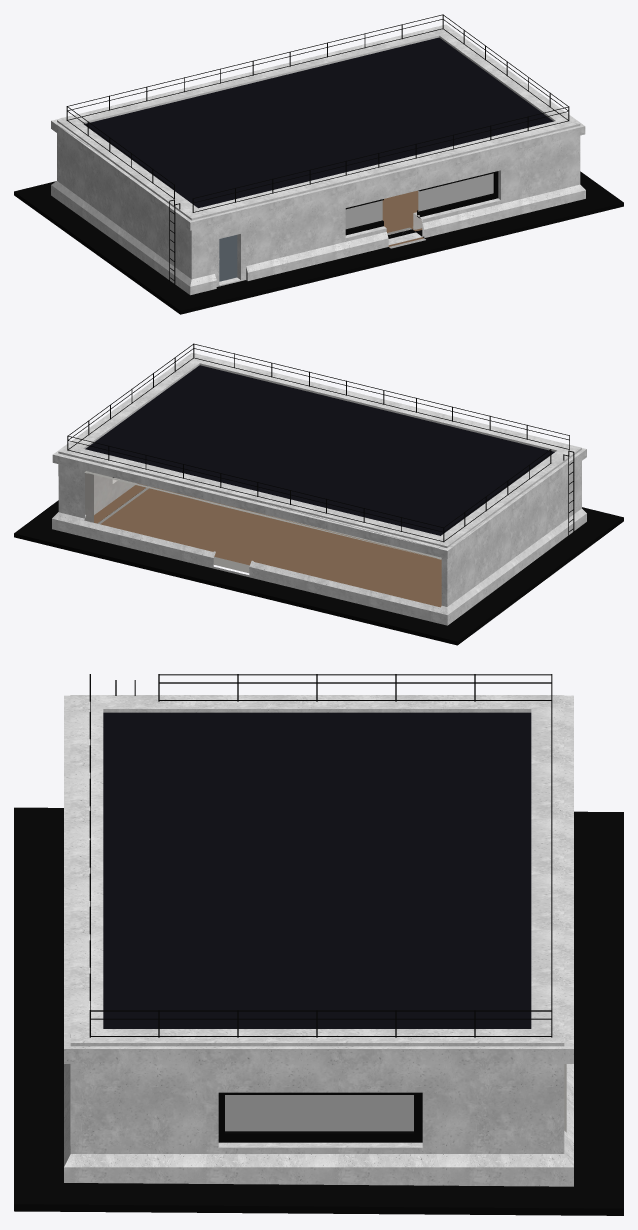
Rendered from control-post.zfix-v14.lod1.glb.
3 views of the same model, one above another, from view 1: azimuth 30°, elevation 25°; view 2: azimuth 150°, elevation 25°; view 3: azimuth 270°, elevation 25° (orthographic). The views are drawn at different scales.
Parts seen in each view (by area): view 1: Inner_Floor_Floor_1_0, Inner_Floor_Outer_Walls_0, Railing_Railing_0, window_1_window_0; view 2: Inner_Floor_Floor_1_0, Inner_Floor_Outer_Walls_0, Railing_Railing_0, Walls_Inner_walls_0; view 3: Inner_Floor_Floor_1_0, Inner_Floor_Outer_Walls_0, Railing_Railing_0, window_1_window_0.
Part boxes in pixels (x1,y1,x2,y2): Inner_Floor_Floor_1_0: [14, 37, 623, 314]; Inner_Floor_Outer_Walls_0: [51, 24, 585, 295]; Railing_Railing_0: [66, 14, 569, 285]; window_1_window_0: [345, 171, 498, 235]; Inner_Floor_Floor_1_0: [14, 365, 623, 645]; Inner_Floor_Outer_Walls_0: [52, 353, 586, 625]; Railing_Railing_0: [67, 343, 574, 542]; Walls_Inner_walls_0: [85, 470, 136, 522]; Inner_Floor_Floor_1_0: [14, 712, 623, 1215]; Inner_Floor_Outer_Walls_0: [64, 695, 573, 1186]; Railing_Railing_0: [89, 674, 552, 1037]; window_1_window_0: [218, 1092, 422, 1142].
Bounding box in the file's own units: 19.9 × 4.09 × 12.93.
6 materials, 3 textured.
